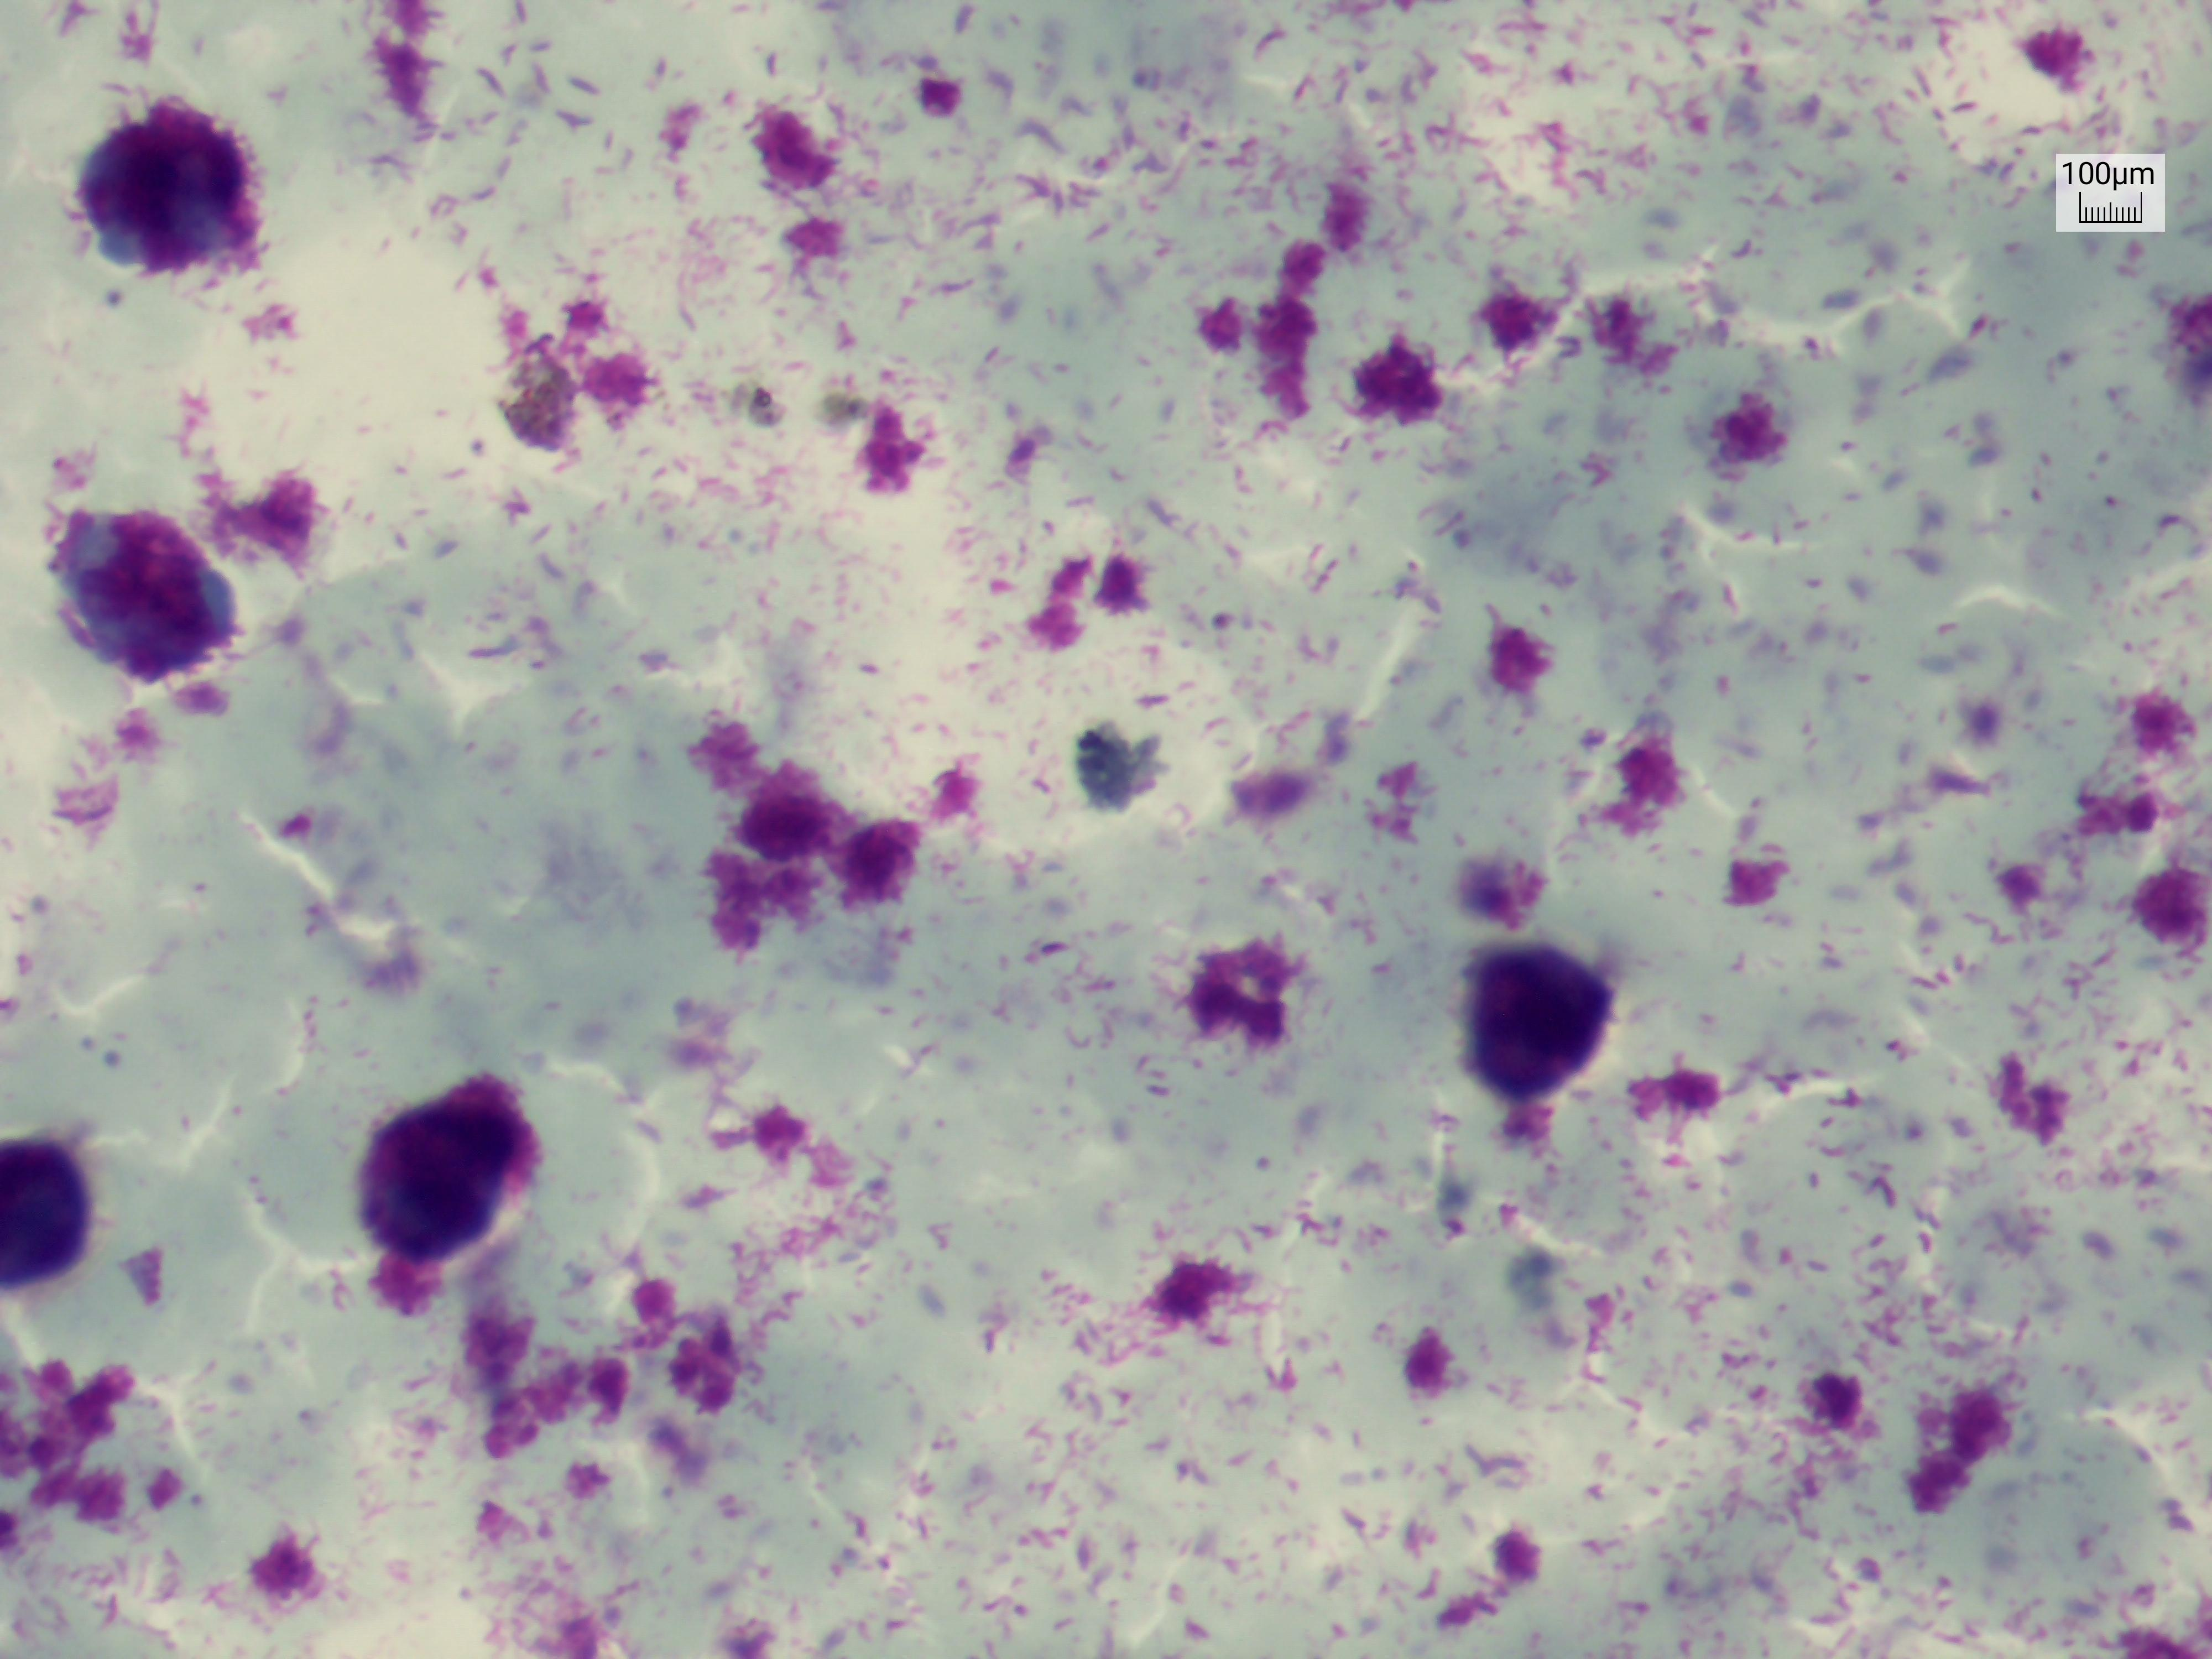p.vivax: (486, 319, 590, 488), (721, 368, 808, 436)
